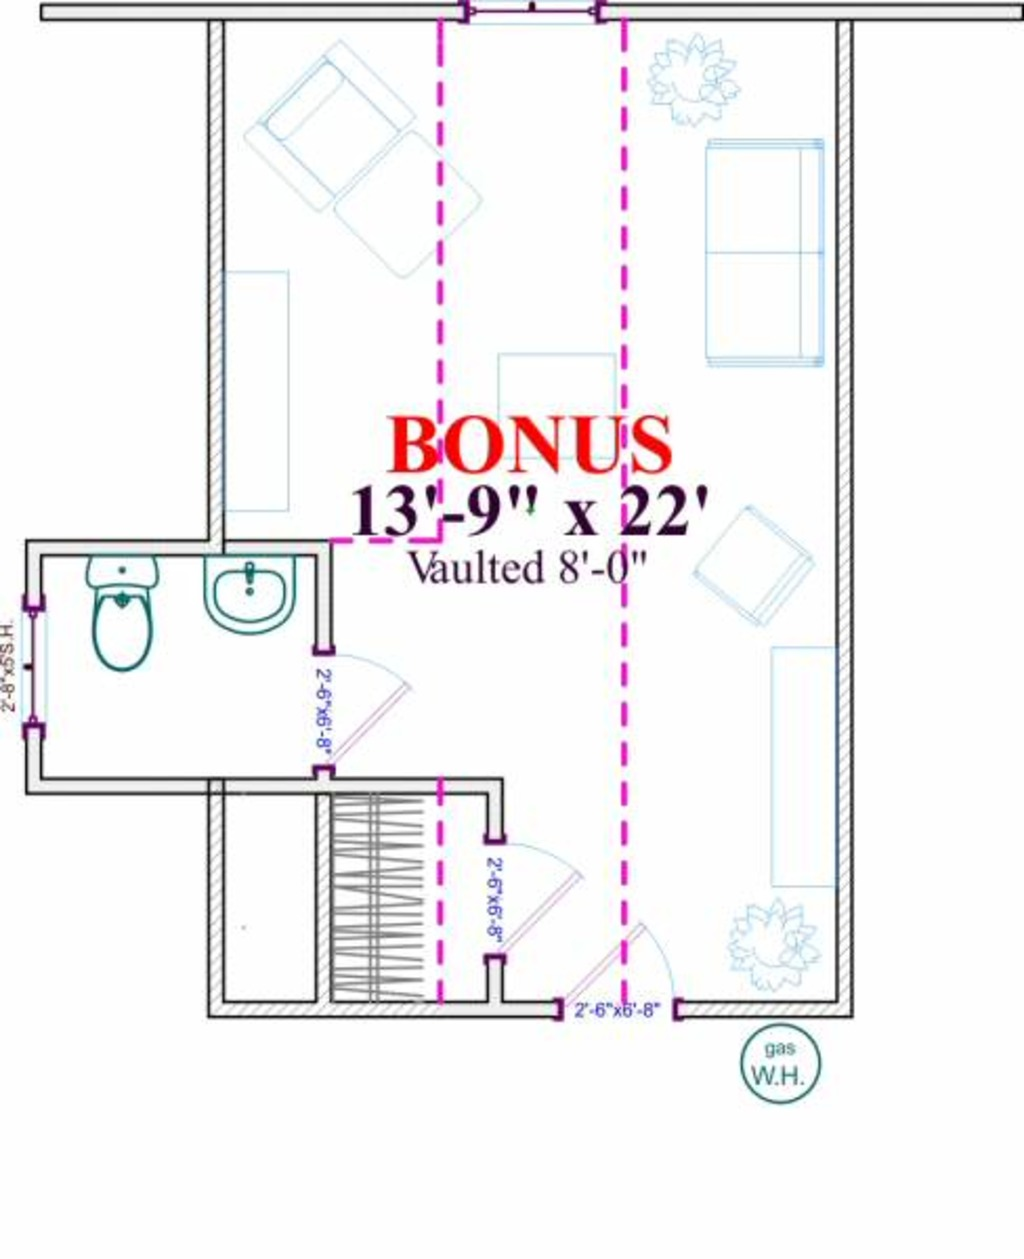door: (320, 640, 433, 780), (556, 915, 683, 1019), (501, 838, 595, 954)
large_sink: (66, 554, 172, 675)
large_sofa: (695, 86, 835, 371)
small_sink: (201, 550, 301, 638)
small_sofa: (243, 30, 439, 213)
window: (18, 598, 53, 729)
